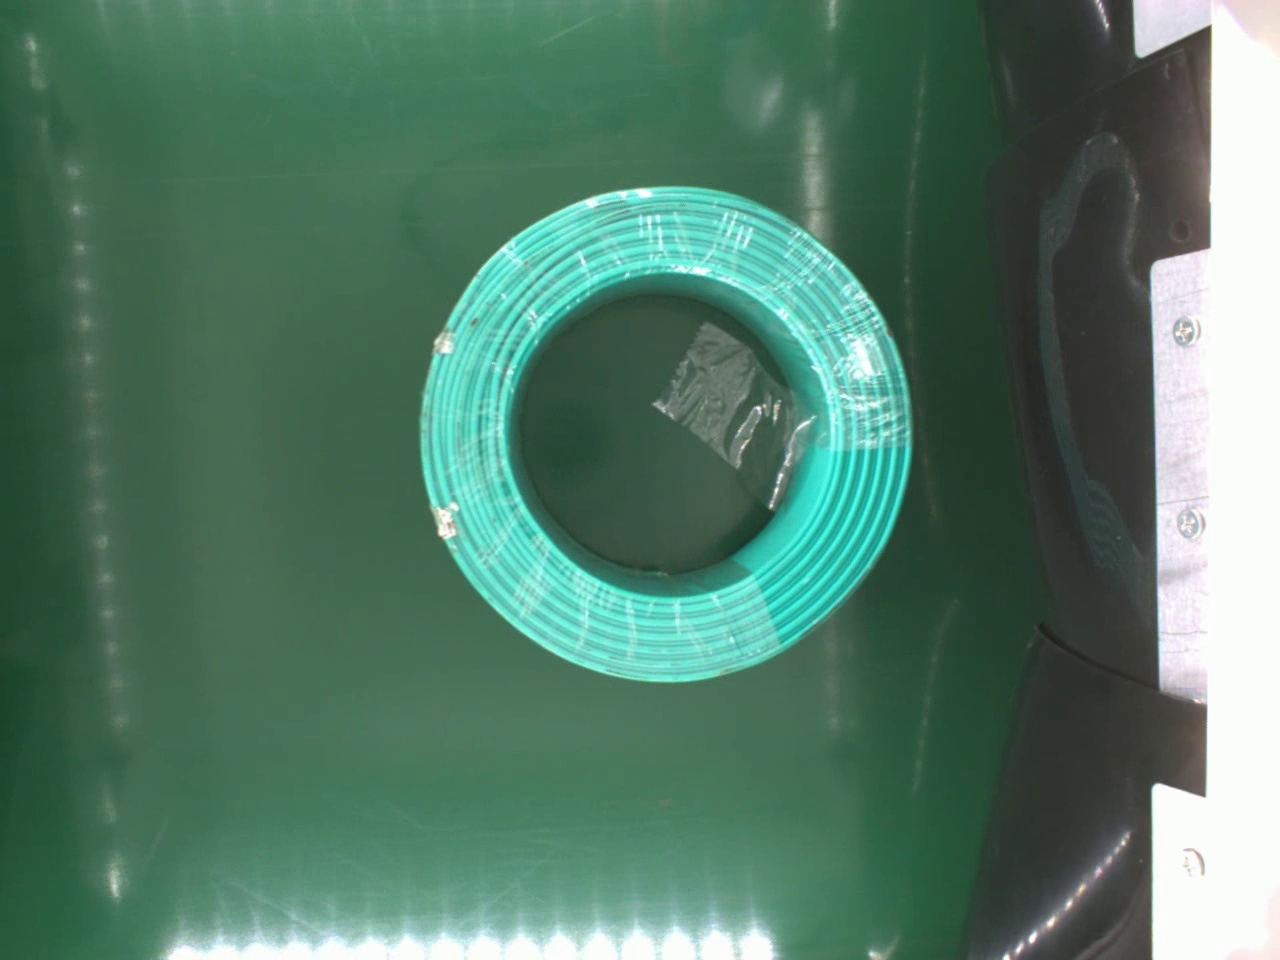green: (408, 179, 921, 682)
